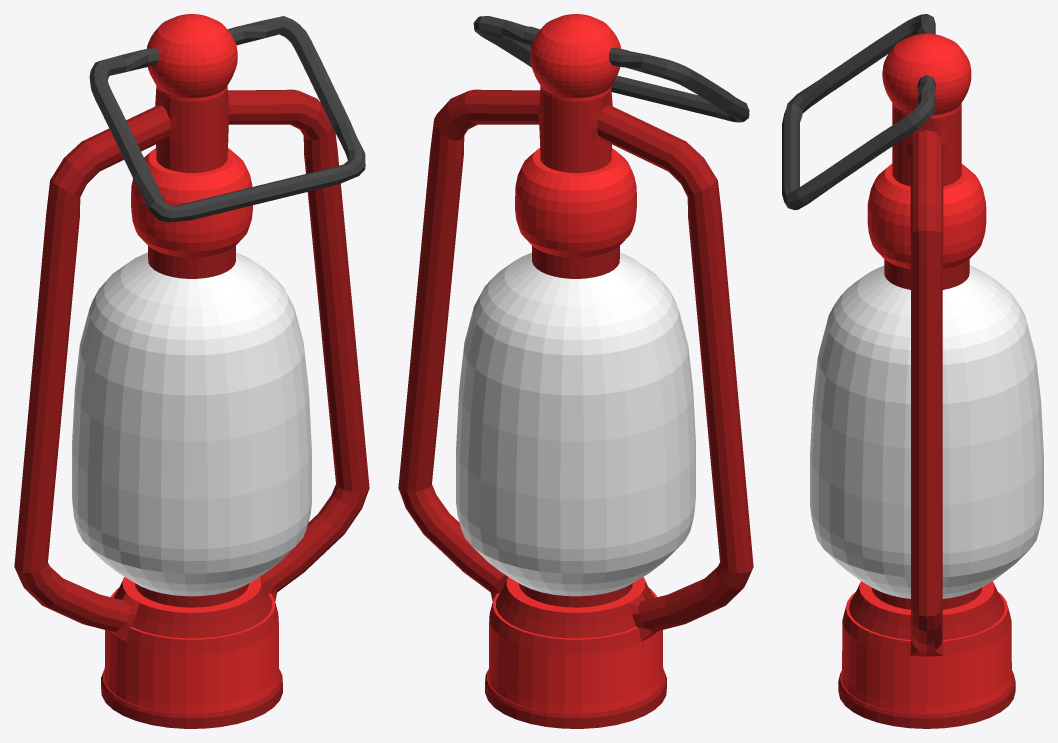
File: LAMP.fbx
The picture shows the model from 3 angles, left to right: view 1: azimuth 30°, elevation 25°; view 2: azimuth 150°, elevation 25°; view 3: azimuth 270°, elevation 25°; orthographic projection. The views are drawn at different scales.
Parts seen in each view (by area): view 1: Circle; view 2: Circle; view 3: Circle.
Boxes of the visible parts, box(x1,y1,x2,y2) form: Circle: box(14, 14, 369, 728); Circle: box(398, 14, 753, 728); Circle: box(782, 14, 1043, 728).
Bounding box in the file's own units: 711 × 1302 × 473.
